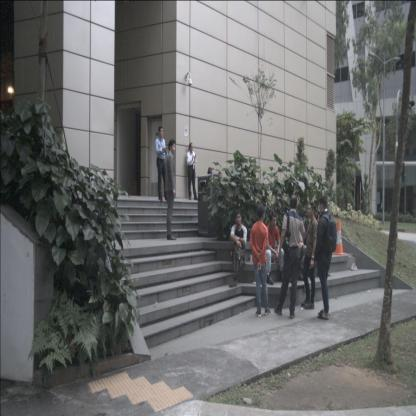cone: (332, 219, 346, 255)
